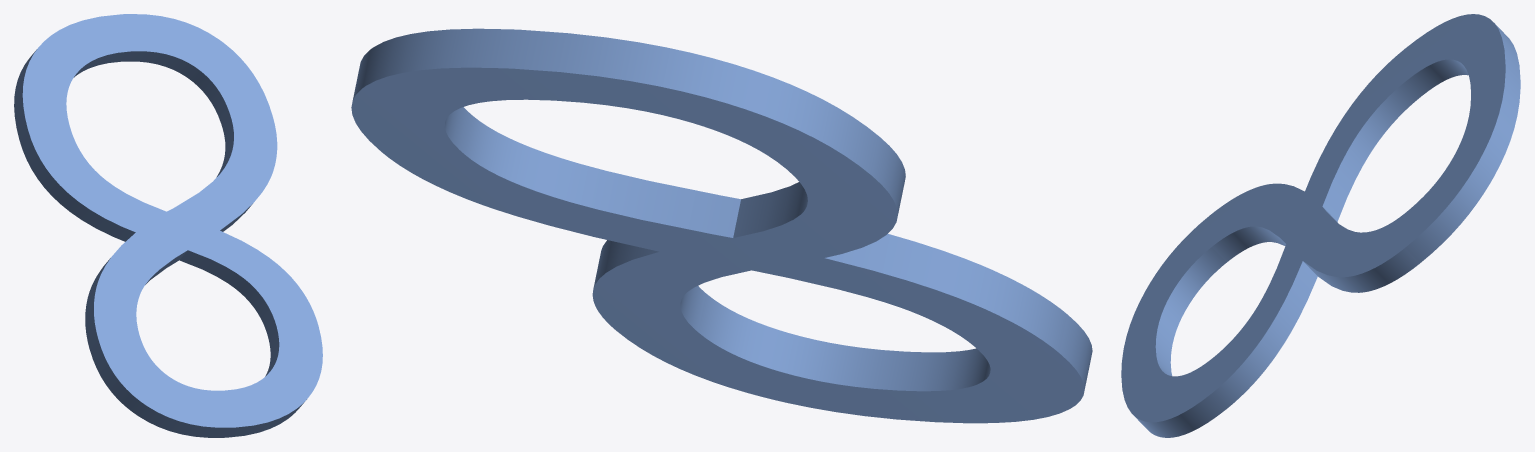
Rendered from New_Number_8.gltf.
3 renders of one model, left to right at view 1: azimuth 30°, elevation 25°; view 2: azimuth 150°, elevation 25°; view 3: azimuth 270°, elevation 25°, orthographic. The views are drawn at different scales.
Visible parts, largest first — view 1: Part 413; view 2: Part 413; view 3: Part 413.
Part boxes in pixels (box(x1,y1,x2,y2)): Part 413: box(14, 14, 322, 437); Part 413: box(351, 28, 1092, 423); Part 413: box(1121, 14, 1520, 437).
Size of the model in its own units: 0.00378 by 0.00425 by 0.00422.
